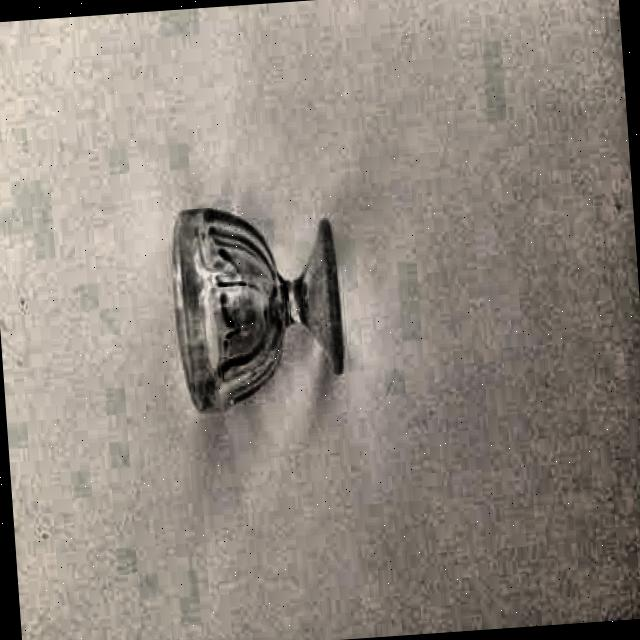glass: (166, 195, 350, 408)
